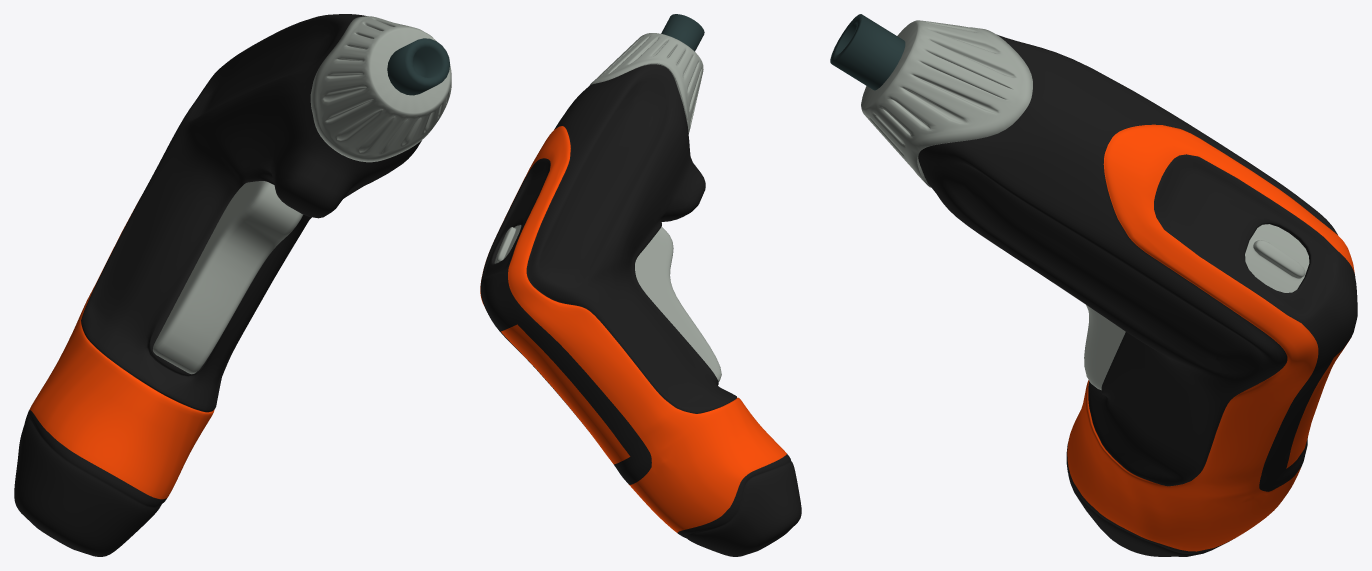
File: electric_screwdriver__tool.glb
3 renders of one model, left to right at view 1: azimuth 30°, elevation 25°; view 2: azimuth 150°, elevation 25°; view 3: azimuth 270°, elevation 25°, orthographic. The views are drawn at different scales.
Parts seen in each view (by area): view 1: Screwdriver, Gray bit .001, Trigger, Drill bit; view 2: Screwdriver, Trigger, Gray bit .001, Drill bit, Switch; view 3: Screwdriver, Gray bit .001, Drill bit, Switch, Trigger.
Boxes of the visible parts, <box> form: Screwdriver: <box>14,14,421,556</box>; Gray bit .001: <box>310,16,451,162</box>; Trigger: <box>153,181,303,374</box>; Drill bit: <box>387,38,450,95</box>; Screwdriver: <box>480,64,801,556</box>; Trigger: <box>635,227,721,381</box>; Gray bit .001: <box>589,33,703,133</box>; Drill bit: <box>661,14,704,51</box>; Switch: <box>494,225,521,263</box>; Screwdriver: <box>918,34,1357,556</box>; Gray bit .001: <box>861,20,1032,187</box>; Drill bit: <box>830,14,905,90</box>; Switch: <box>1245,224,1309,292</box>; Trigger: <box>1084,305,1125,390</box>.
Bounding box in the file's own units: 3.31 × 4.88 × 3.57.
